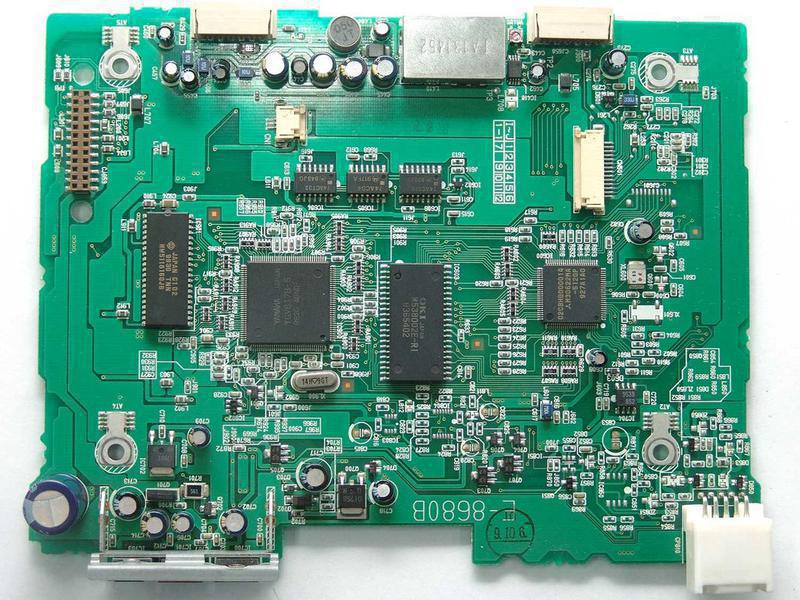SMD capacitor: (161, 197, 179, 213), (176, 395, 186, 406), (201, 334, 213, 343)
electrolytic capacitor: (23, 472, 90, 543), (297, 461, 328, 492)
